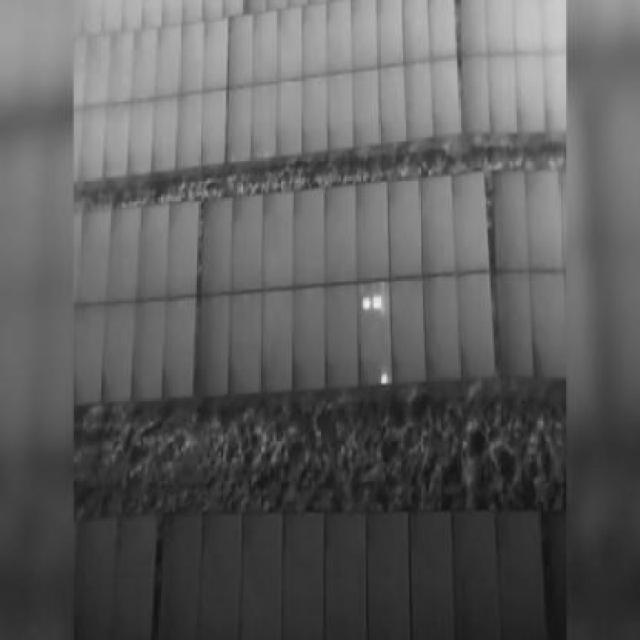hotspot: (360, 296, 372, 316), (378, 368, 388, 387), (372, 294, 382, 311)
